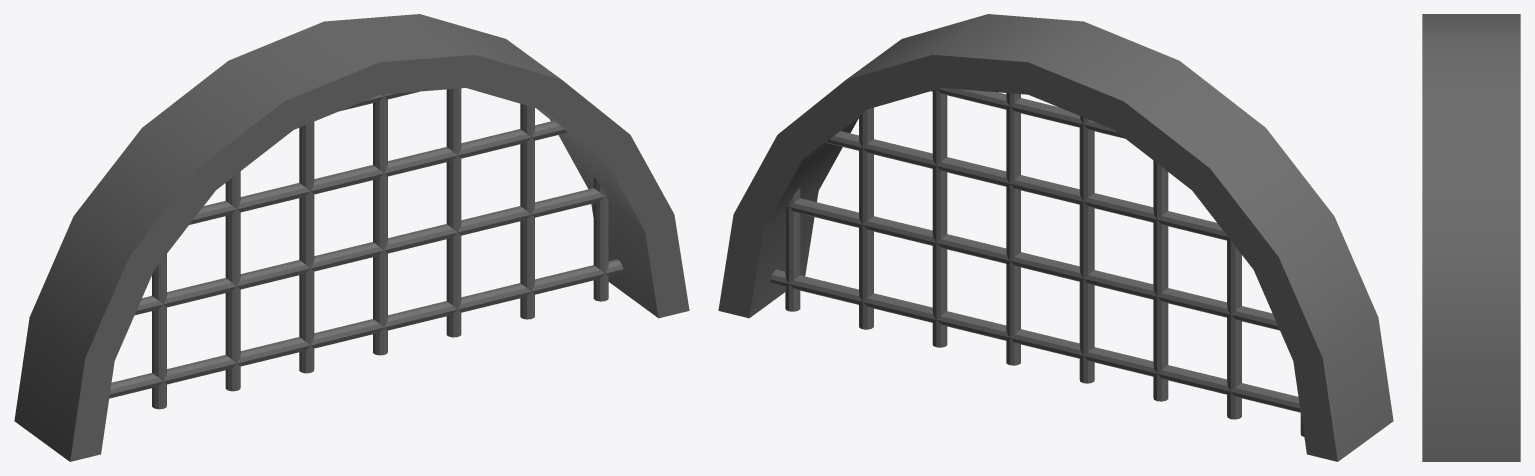
File: obj_sewer_blocked_tunnel_2.fbx
3 renders of one model, left to right at view 1: azimuth 30°, elevation 25°; view 2: azimuth 150°, elevation 25°; view 3: azimuth 270°, elevation 25°, orthographic. The views are drawn at different scales.
Visible parts, largest first — view 1: obj_sewer_blocked_tunnel_2; view 2: obj_sewer_blocked_tunnel_2; view 3: obj_sewer_blocked_tunnel_2.
Part boxes in pixels (x1,y1,x2,y2): obj_sewer_blocked_tunnel_2: (14, 14, 689, 461); obj_sewer_blocked_tunnel_2: (718, 14, 1393, 461); obj_sewer_blocked_tunnel_2: (1422, 14, 1520, 461).
Bounding box in the file's own units: 5.39 × 2.7 × 0.8401.
Materials: 1 (1 with a texture image).
